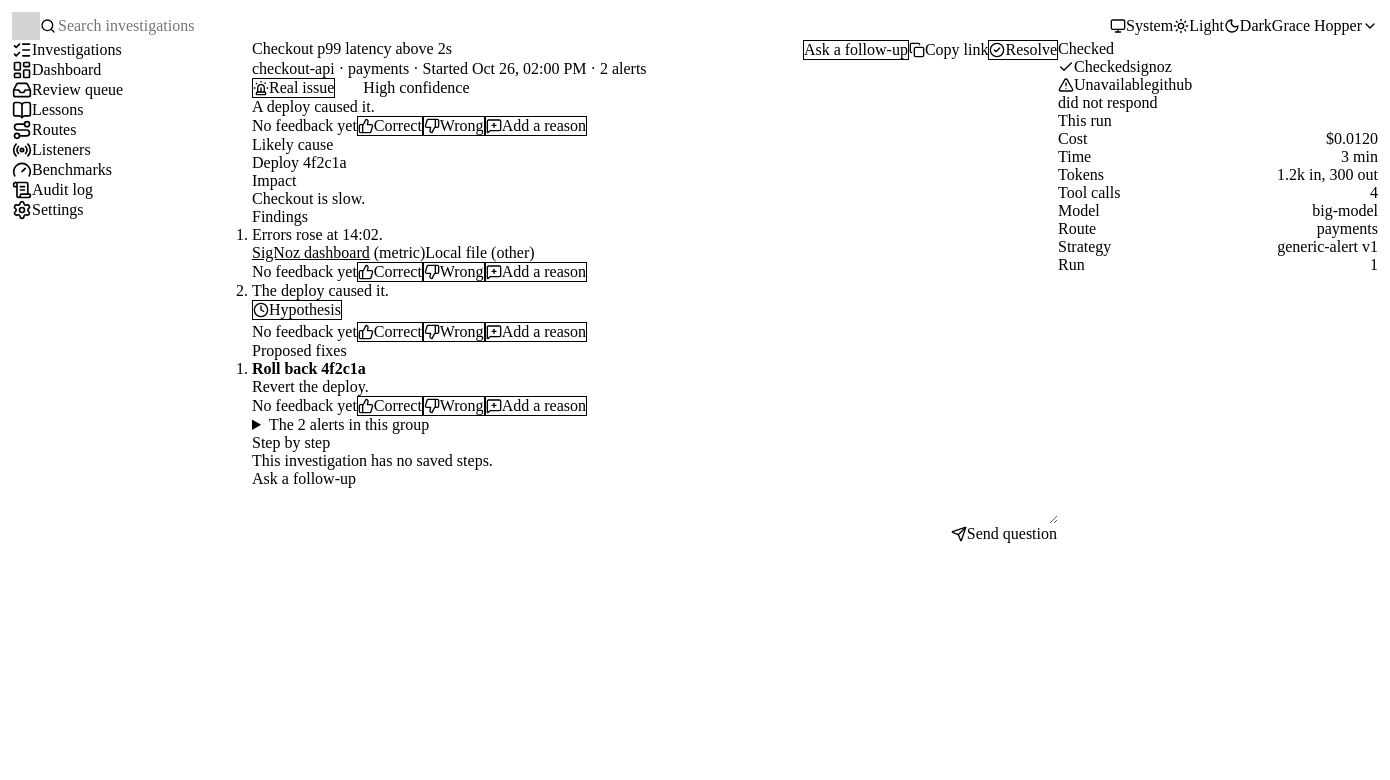
Scenario: the investigation page › shows why an action was refused
Click the button "Resolve". click: {"x": 1023, "y": 50}
box: [988,40,1058,60]
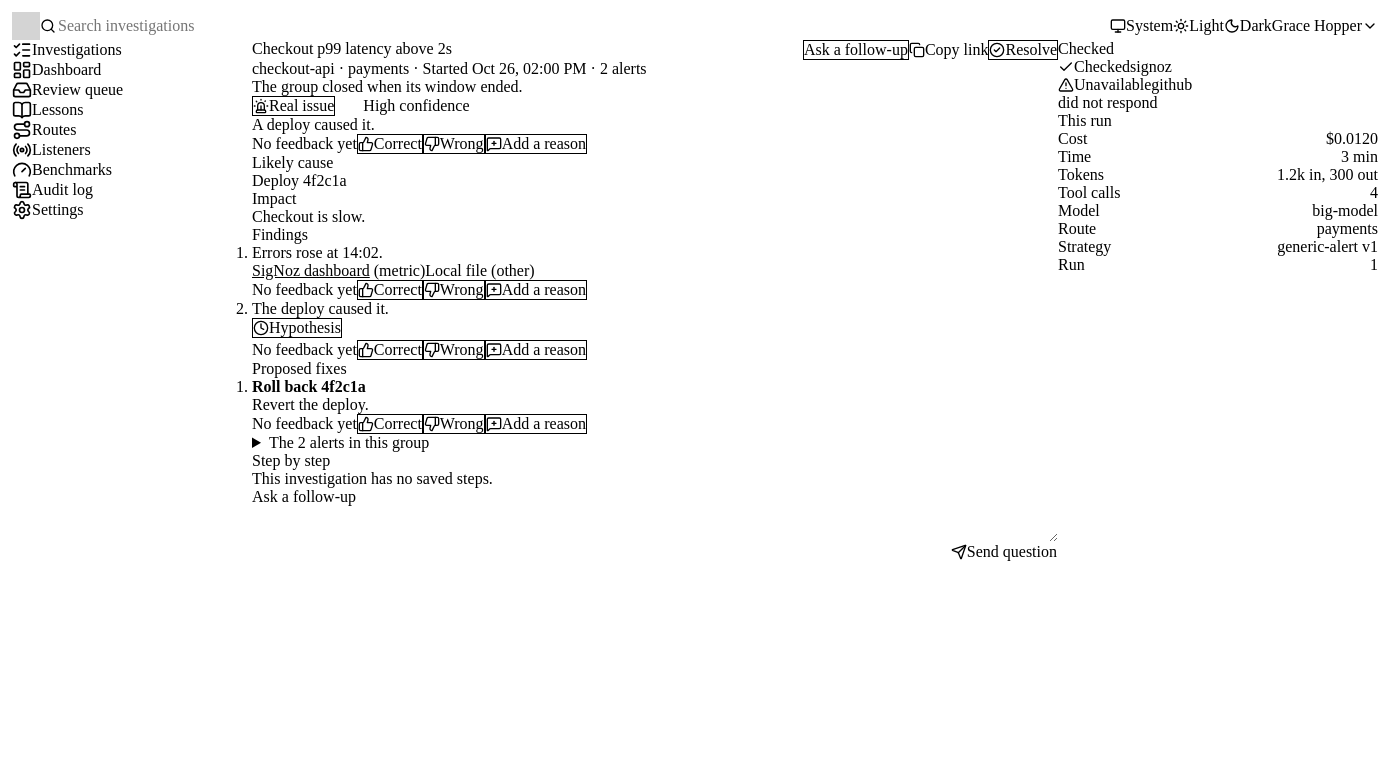
Check: the message reads "The group closed when its window ended.", box [252,78,523,95]
